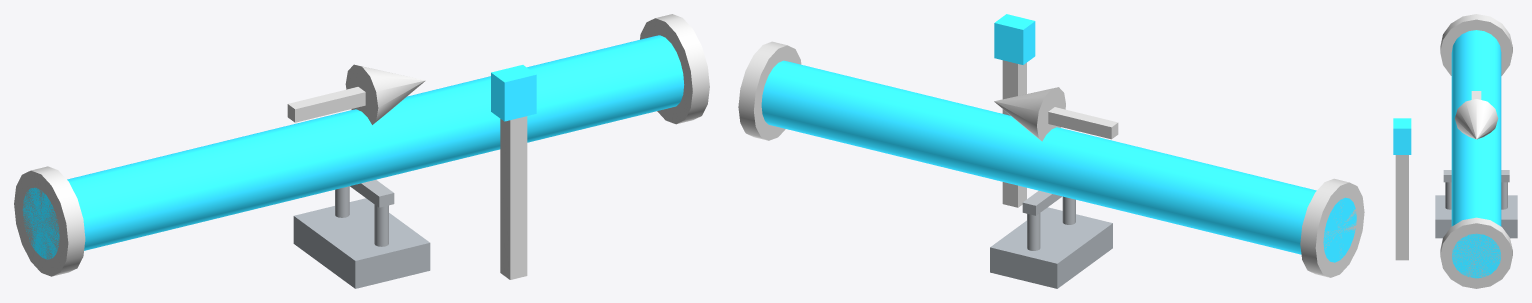
The model's file is Pipeline-short.glb.
The picture shows the model from 3 angles, left to right: view 1: azimuth 30°, elevation 25°; view 2: azimuth 150°, elevation 25°; view 3: azimuth 270°, elevation 25°; orthographic projection. The views are drawn at different scales.
Visible parts, largest first — view 1: pipe, flange (×2), footing, marker_post, flow_arrow, marker_cap, shaft, support_post (×2), crossbar; view 2: pipe, flange (×2), footing, flow_arrow, marker_cap, marker_post, shaft, crossbar, support_post; view 3: pipe, flange (×2), marker_post, flow_arrow, footing, marker_cap, support_post (×2), crossbar, shaft.
Boxes of the visible parts, x1,y1,x2,y2 form: pipe: (22, 35, 684, 259); flange (×2): (14, 14, 709, 276); footing: (293, 198, 430, 288); marker_post: (500, 116, 527, 279); flow_arrow: (345, 64, 425, 124); marker_cap: (491, 65, 536, 121); shaft: (287, 87, 365, 122); support_post (×2): (335, 186, 388, 246); crossbar: (350, 180, 394, 207); pipe: (761, 60, 1356, 262); flange (×2): (738, 41, 1364, 277); footing: (990, 207, 1112, 288); flow_arrow: (994, 87, 1065, 141); marker_cap: (994, 14, 1035, 64); marker_post: (1002, 60, 1026, 207); shaft: (1048, 107, 1118, 139); crossbar: (1022, 191, 1062, 215); support_post: (1027, 213, 1040, 250); pipe: (1451, 30, 1501, 278); flange (×2): (1440, 14, 1512, 288); marker_post: (1395, 155, 1408, 260); flow_arrow: (1454, 99, 1498, 139); footing: (1435, 195, 1517, 238); marker_cap: (1393, 118, 1411, 154); support_post (×2): (1445, 182, 1507, 209); crossbar: (1443, 170, 1509, 182); shaft: (1471, 91, 1481, 99).
Bounding box in the file's own units: 6 × 1.8 × 1.51.
